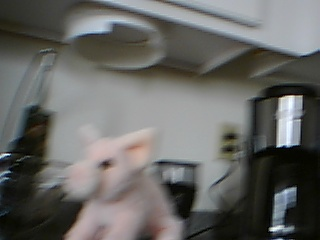piggy: (61, 123, 189, 240)
